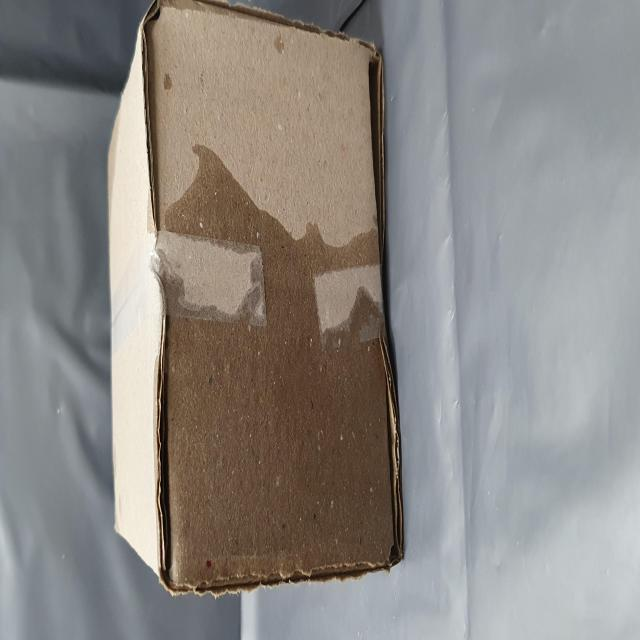wet: (31, 259, 277, 640)
